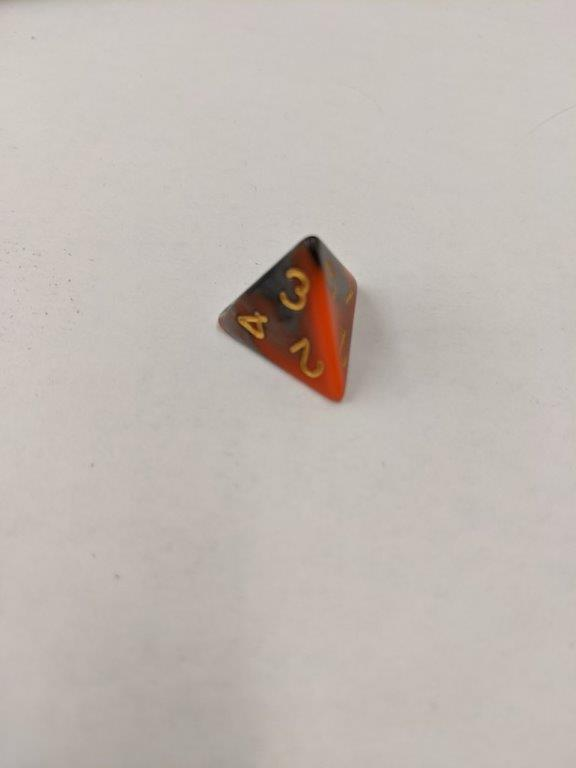d4-3: (211, 232, 362, 408)
